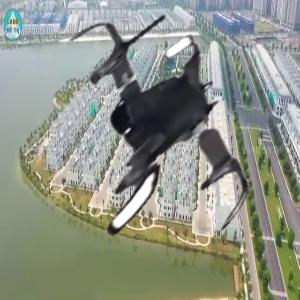drone: (11, 7, 272, 268)
